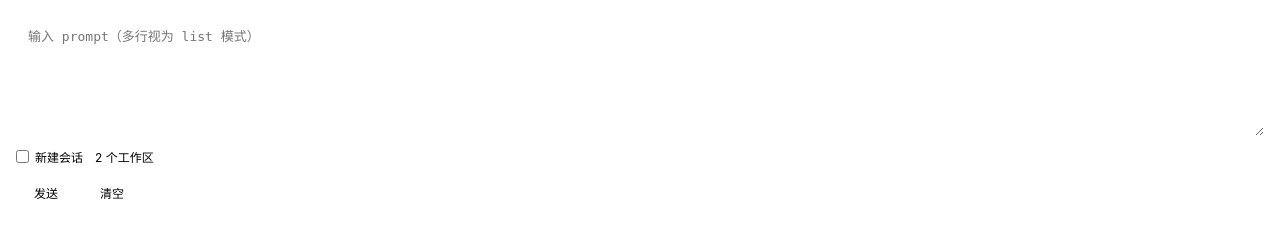
Test: GlobalTerminal — non-blocking handleSend › handleSend non阻塞 — 发送期间按钮禁用
Type "测试 prompt" into the text box. click: (640, 76)
box: [16,16,1264,136]
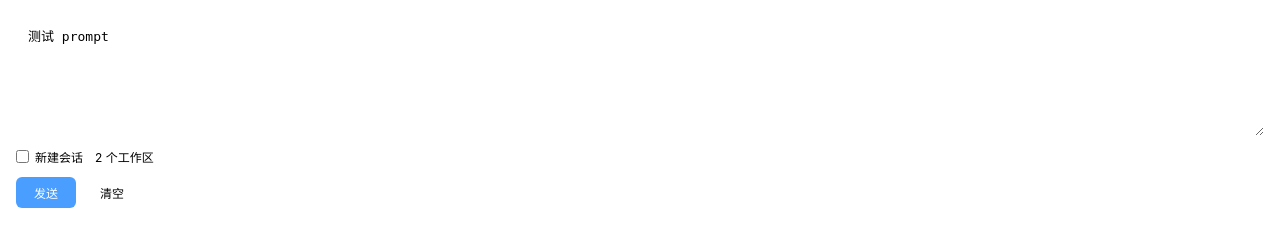
Click the button "发送". click: (46, 192)
box: [16,177,76,208]
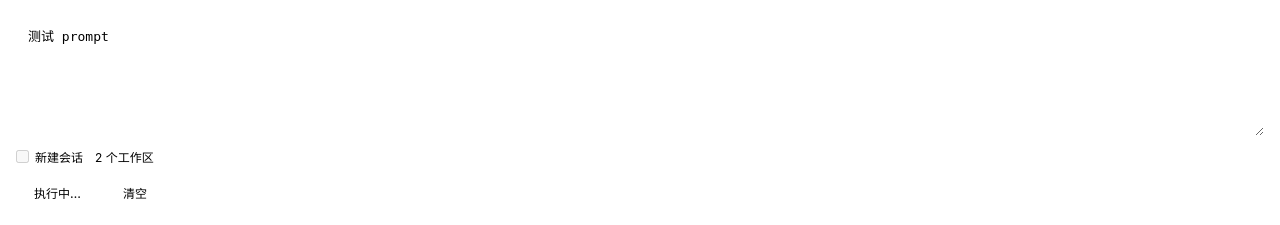
Result: the button named "发送" is disabled at [16,177,99,208]
